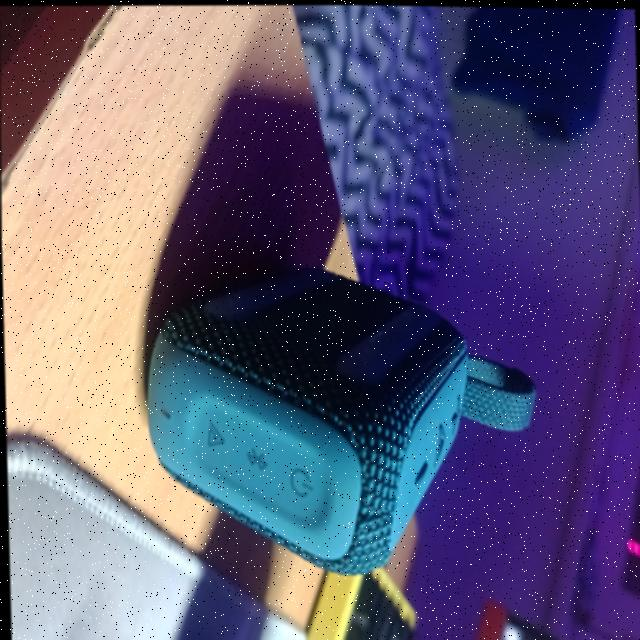column JBL: (143, 257, 542, 582)
